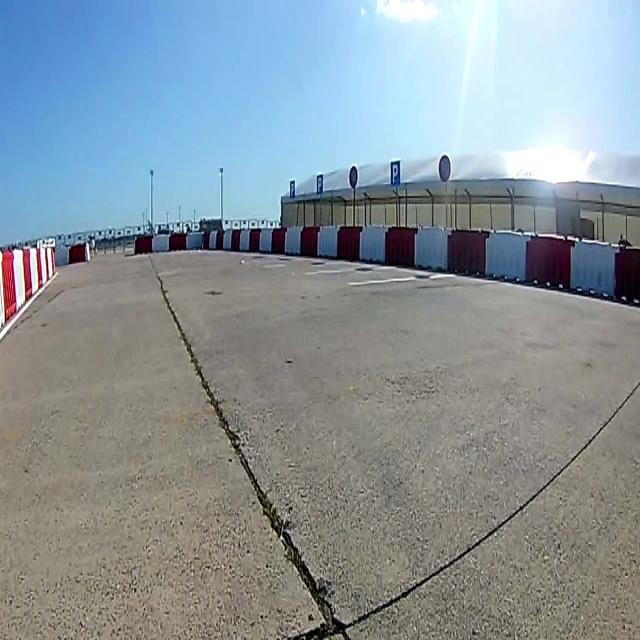park: (390, 161, 401, 186), (317, 174, 323, 195), (290, 180, 296, 198)
parkyasak: (438, 156, 450, 184), (348, 165, 358, 188)
